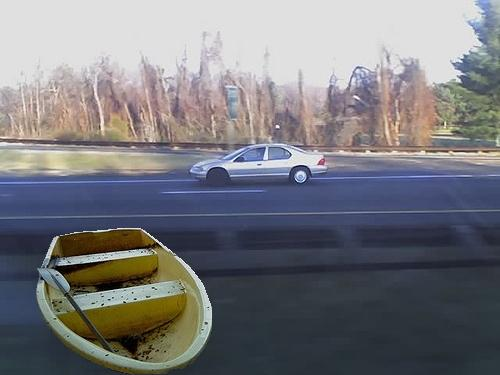tampered: (37, 229, 212, 374)
